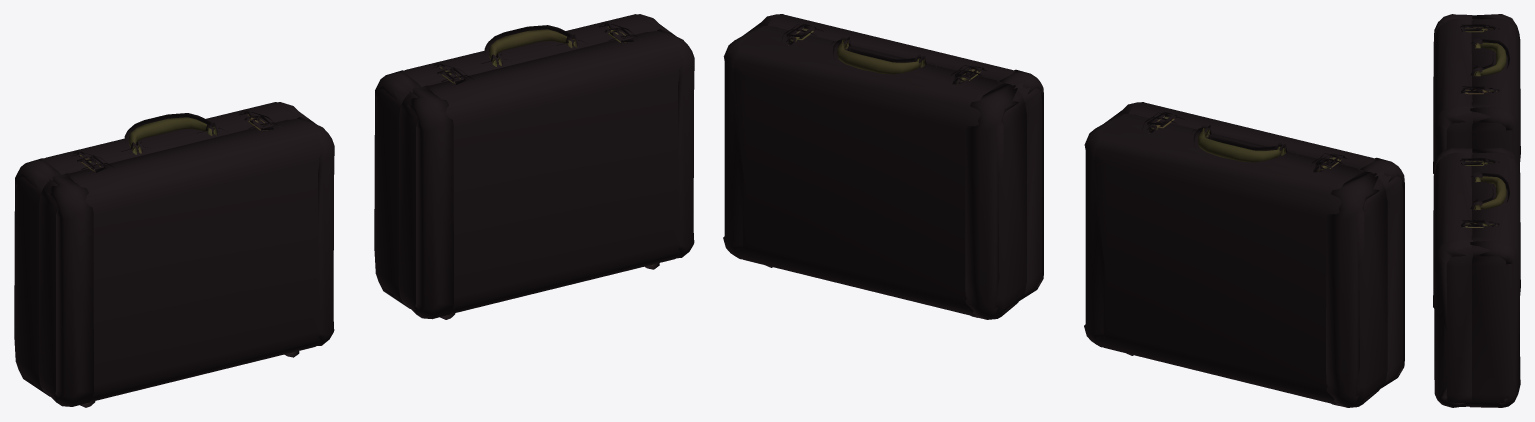
File: SM_Int_Suitcase.fbx
3 renders of one model, left to right at view 1: azimuth 30°, elevation 25°; view 2: azimuth 150°, elevation 25°; view 3: azimuth 270°, elevation 25°, orthographic. The views are drawn at different scales.
Parts seen in each view (by area): view 1: SM_Int_Suitcase; view 2: SM_Int_Suitcase; view 3: SM_Int_Suitcase.
Part boxes in pixels (x1,y1,x2,y2): SM_Int_Suitcase: (14,14,694,407); SM_Int_Suitcase: (723,14,1404,407); SM_Int_Suitcase: (1433,14,1520,407).
Size of what is drawn, in the model's own units: 0.7081 by 0.2554 by 0.1104.
